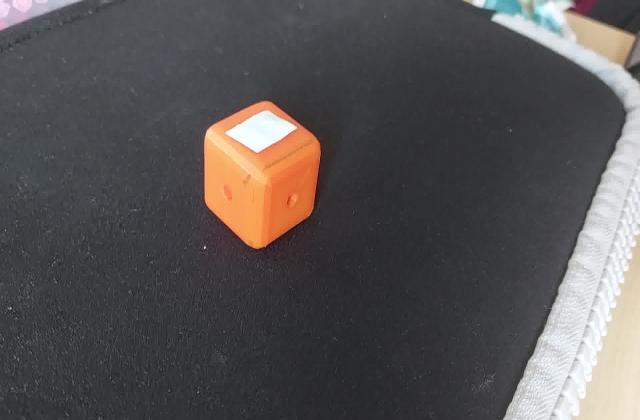cube: (202, 94, 328, 252)
white: (228, 118, 292, 158)
